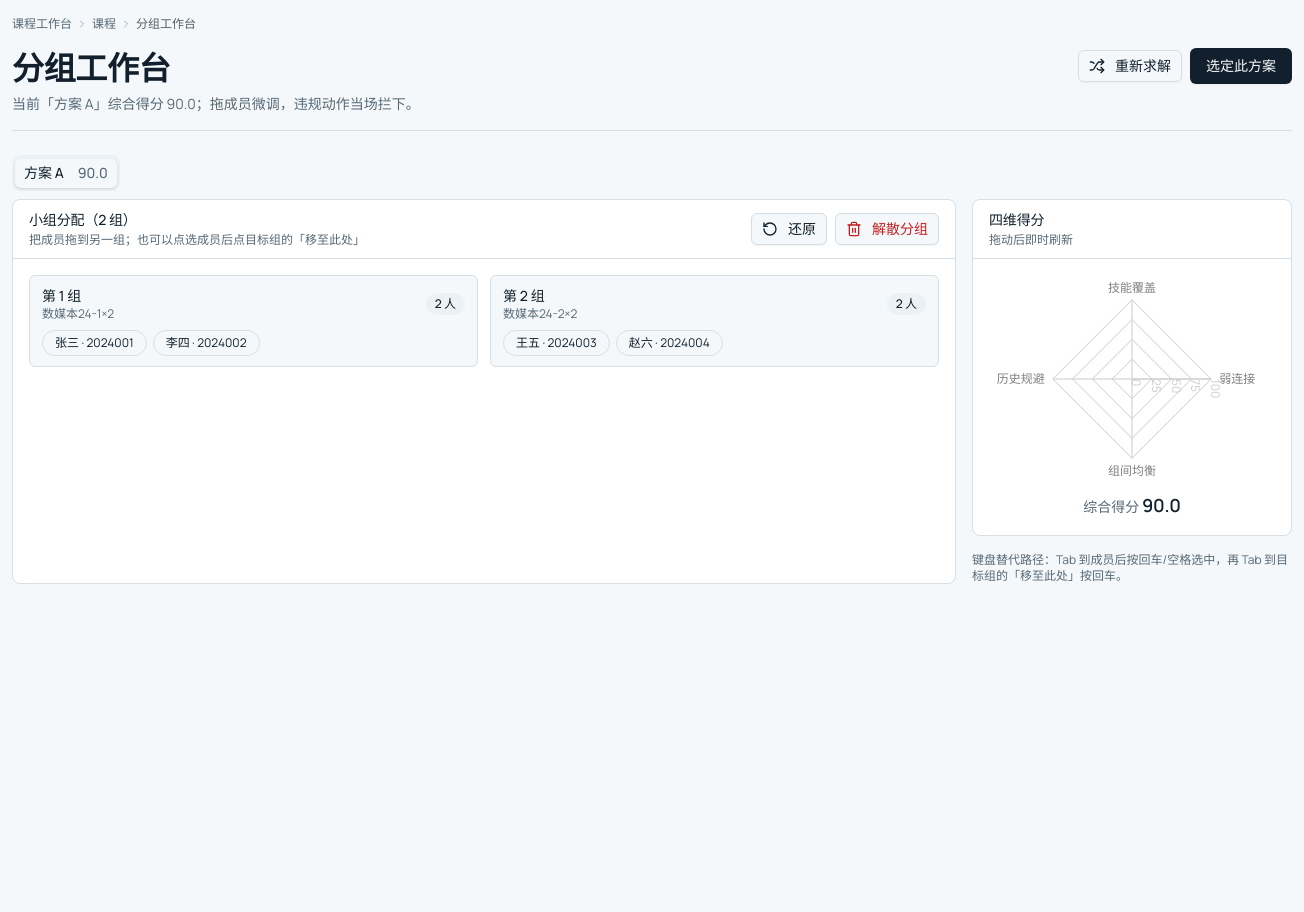
分组工作台：移动失败必须回滚且说话 › 预演服务异常（500 非 JSON 错误）也要给出可见失败反馈
The image size is (1304, 912).
Expected: the tab "方案 A 90.0" is shown, x1=15 y1=158 x2=117 y2=188
Click the button "李四 · 2024002". click: (206, 343)
box: x1=153 y1=330 x2=260 y2=356
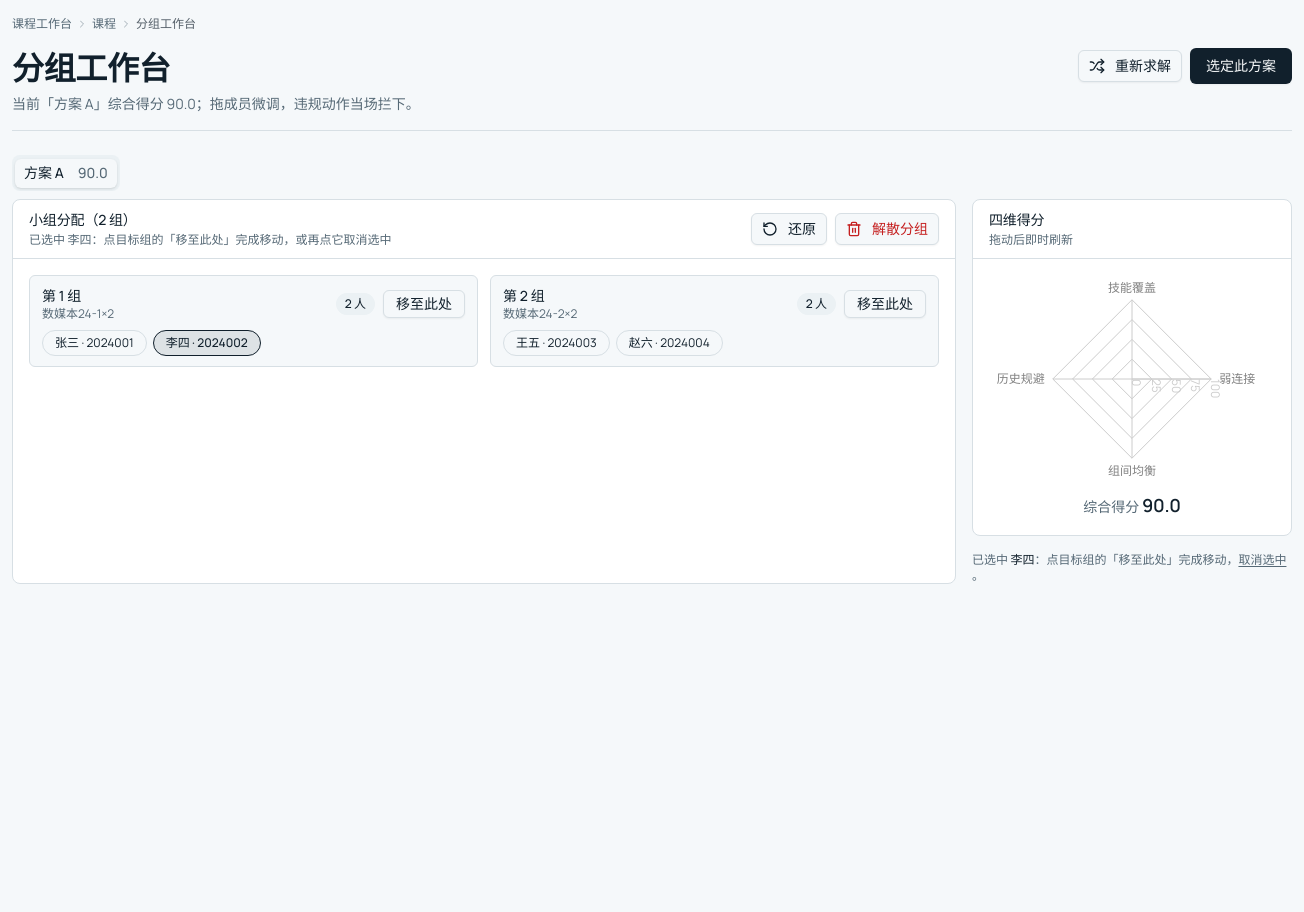
Click the button with aria-label "把 李四 移到第 2 组". click: (885, 304)
box: x1=844 y1=290 x2=926 y2=318
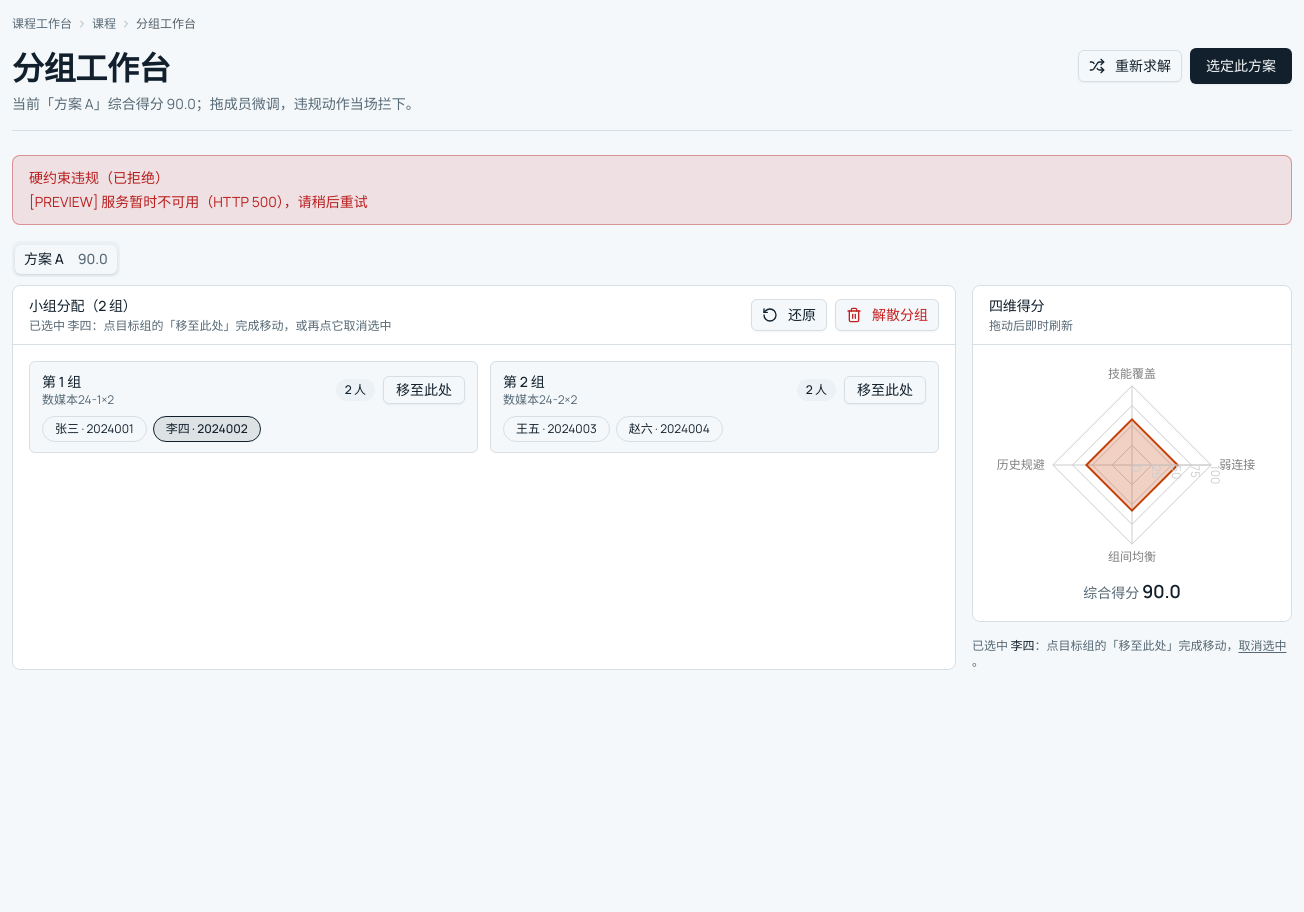
Expected: the text "当前「方案 A」综合得分 90.0；拖成员微调，违规动作当场拦下。" is shown, x1=12 y1=94 x2=420 y2=114
Expected: the list item shows "服务暂时不可用（HTTP 500）", x1=101 y1=192 x2=368 y2=211
